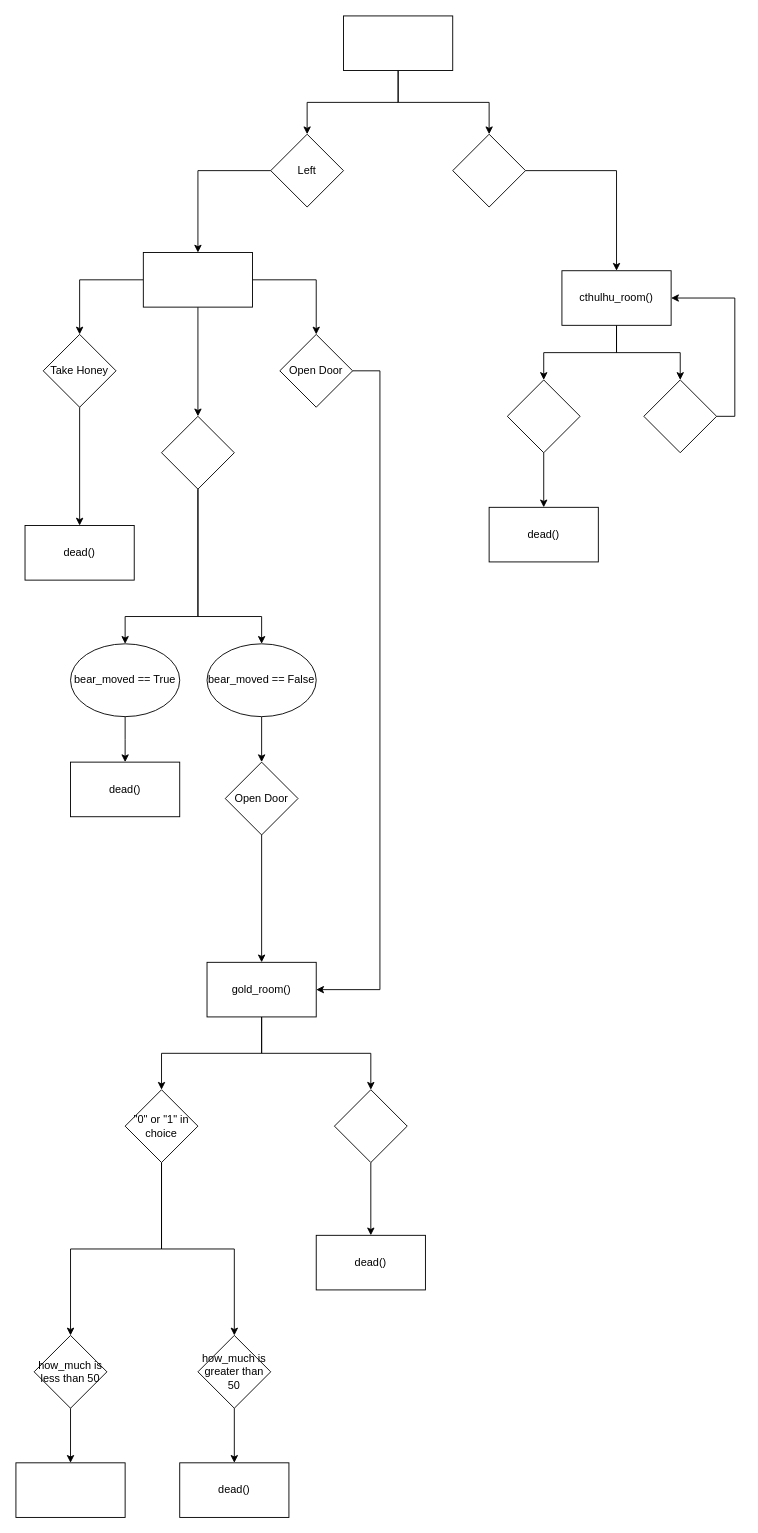
The diagram is 758 pixels wide and 1533 high, and some of its shapes have lost their labels. Each missing label, with the centre of its shape:
"0" or "1" not in choice: the point at 370,1126
bear_room(): the point at 197,279
exit(): the point at 70,1489
flee: the point at 543,416
not flee: the point at 680,416
Right: the point at 489,170
start(): the point at 398,43
Taunt Bear: the point at 197,452
